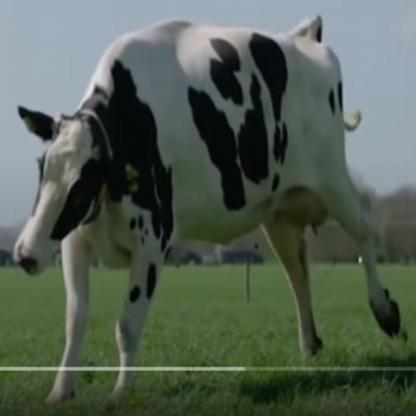cow: (13, 22, 401, 404)
